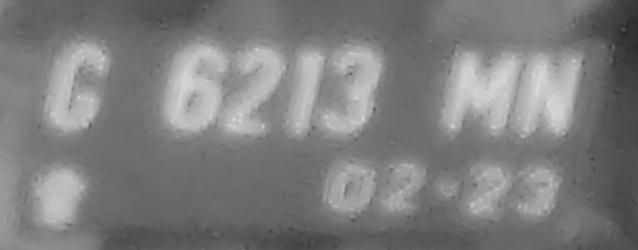1: (272, 42, 335, 145)
2: (214, 40, 293, 144)
3: (313, 44, 396, 151)
6: (157, 36, 237, 137)
G: (30, 36, 119, 141)
M: (434, 34, 529, 145)
N: (509, 48, 594, 149)
